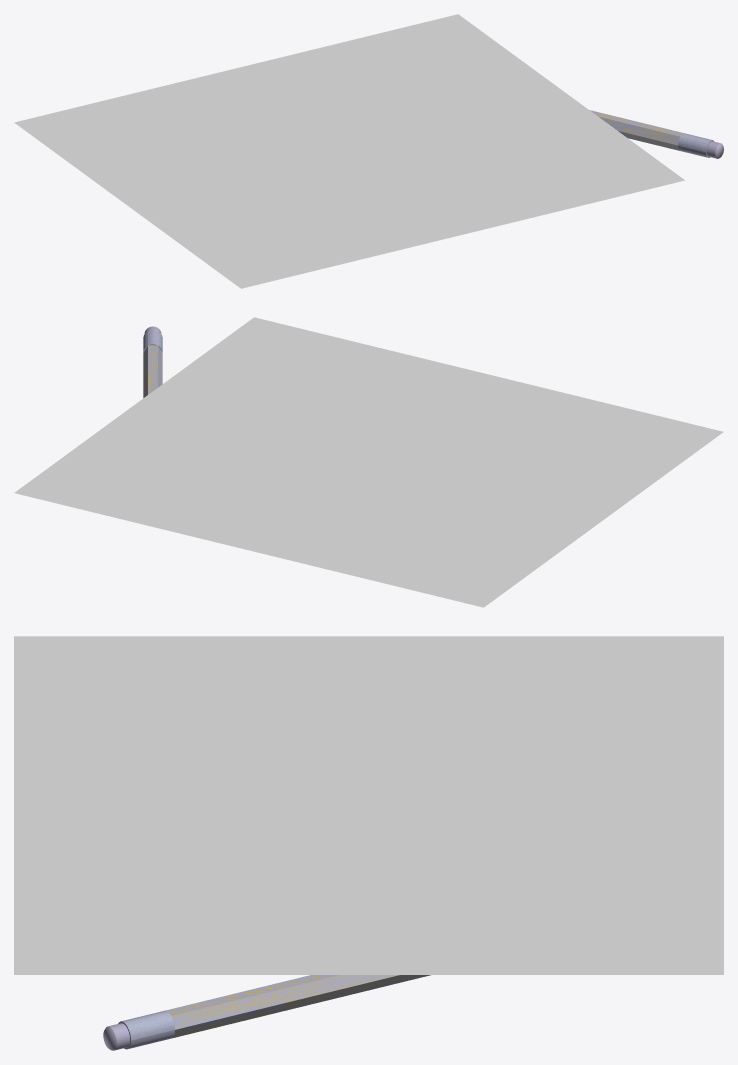
The model's file is homework.fbx.
3 views of the same model, one above another, from view 1: azimuth 30°, elevation 25°; view 2: azimuth 150°, elevation 25°; view 3: azimuth 270°, elevation 25° (orthographic). The views are drawn at different scales.
Parts seen in each view (by area): view 1: Paper1, MGK_Pencil1; view 2: Paper1, MGK_Pencil1; view 3: Paper1, MGK_Pencil1.
Part boxes in pixels (x1=…): Paper1: x1=14, y1=14, x2=684, y2=288; MGK_Pencil1: x1=589, y1=110, x2=723, y2=158; Paper1: x1=14, y1=317, x2=723, y2=607; MGK_Pencil1: x1=143, y1=326, x2=162, y2=397; Paper1: x1=14, y1=636, x2=723, y2=974; MGK_Pencil1: x1=103, y1=975, x2=430, y2=1050.
Size of the model in its own units: 631 by 20.44 by 482.
